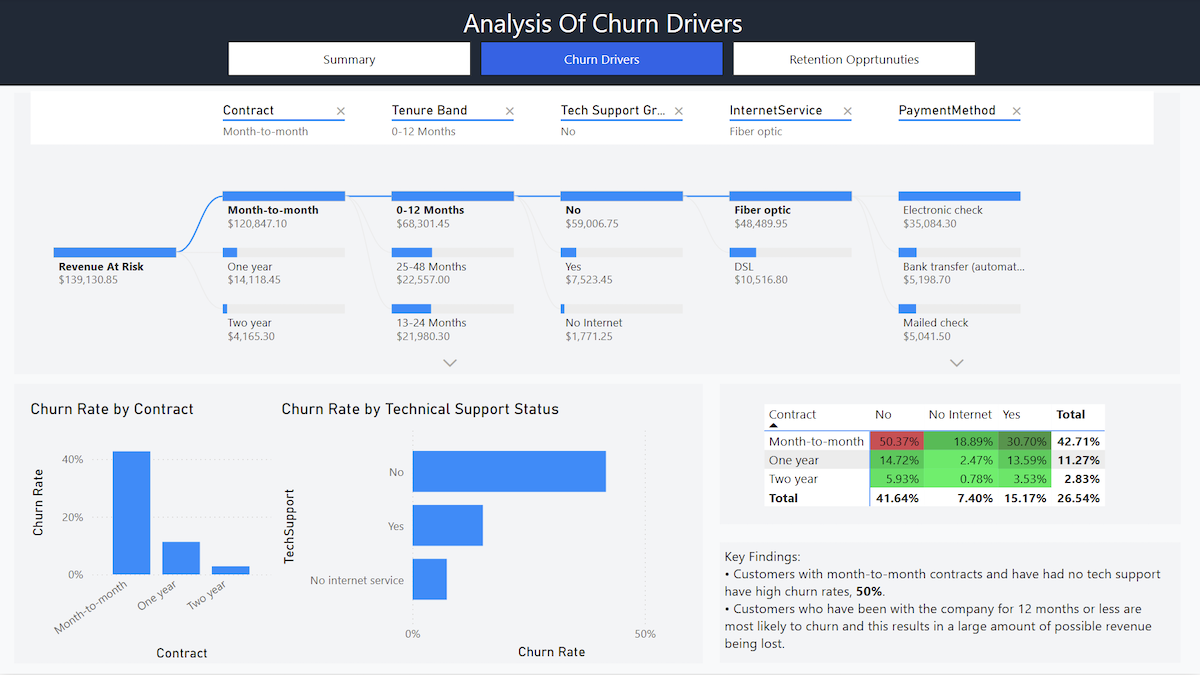

What the dashboard file says about the page in this screenshot:
{"tool":"powerbi","page":{"name":"Churn Drivers","canvas":[1280,720],"ordinal":1},"visuals":[{"type":"shape","box":[0,0,1280.5,94.4],"z":0,"group":"g1"},{"type":"shape","box":[767.7,580.6,491.2,128.5],"z":0},{"type":"textbox","box":[396.9,2.1,494.6,45.9],"z":1000,"group":"g1"},{"type":"shape","box":[768,411.7,491.4,149.7],"z":1000},{"type":"pageNavigator","box":[243.5,46.7,798.3,37.1],"z":2000,"group":"g1"},{"type":"shape","box":[16.3,411.7,733.8,297.8],"z":2000},{"type":"shape","box":[16.3,100.8,1242.6,300],"z":3000},{"type":"clusteredColumnChart","fields":{"Y":["Telco.Churn Rate"],"Category":["Telco.Contract"]},"box":[29.3,427.8,266.7,283],"z":4000},{"type":"barChart","title":"Churn Rate by Technical Support Status","fields":{"Y":["Telco.Churn Rate"],"Category":["Telco.TechSupport"]},"box":[296,427.8,458.7,281.4],"z":5000},{"type":"pivotTable","fields":{"Rows":["Telco.Contract"],"Values":["Telco.Churn Rate"],"Columns":["Telco.Tech Support Group"]},"box":[810.3,427.9,413.3,131.8],"z":6000},{"type":"decompositionTreeVisual","fields":{"Analyze":["Telco.Revenue At Risk"],"ExplainBy":["Telco.Contract","Telco.Tenure Band","Telco.Tech Support Group","Telco.InternetService","Telco.PaymentMethod"]},"box":[29.3,94.3,1206.8,317.2],"z":7000},{"type":"textbox","box":[767.7,580.6,479.8,130.1],"z":8000},{"type":"group","id":"g1","title":"Group 1","box":[0,0,1280.5,94.4],"z":9000}]}

Visuals, with their boxes in screenshot pixels (x1, y1, x2, y2), scaled from the page's 1280x720 canvas onto the 1200x675 screenshot:
shape: select_region(0, 0, 1199, 88)
shape: select_region(720, 544, 1180, 665)
textbox: select_region(372, 2, 836, 45)
shape: select_region(720, 386, 1181, 526)
pageNavigator: select_region(228, 44, 977, 79)
shape: select_region(15, 386, 703, 665)
shape: select_region(15, 94, 1180, 376)
clusteredColumnChart - Telco.Churn Rate x Telco.Contract: select_region(27, 401, 278, 666)
"Churn Rate by Technical Support Status" barChart: select_region(278, 401, 708, 665)
pivotTable - Telco.Contract x Telco.Churn Rate: select_region(760, 401, 1147, 525)
decompositionTreeVisual - Telco.Revenue At Risk x Telco.Contract: select_region(27, 88, 1159, 386)
textbox: select_region(720, 544, 1170, 666)
"Group 1" group: select_region(0, 0, 1199, 88)
